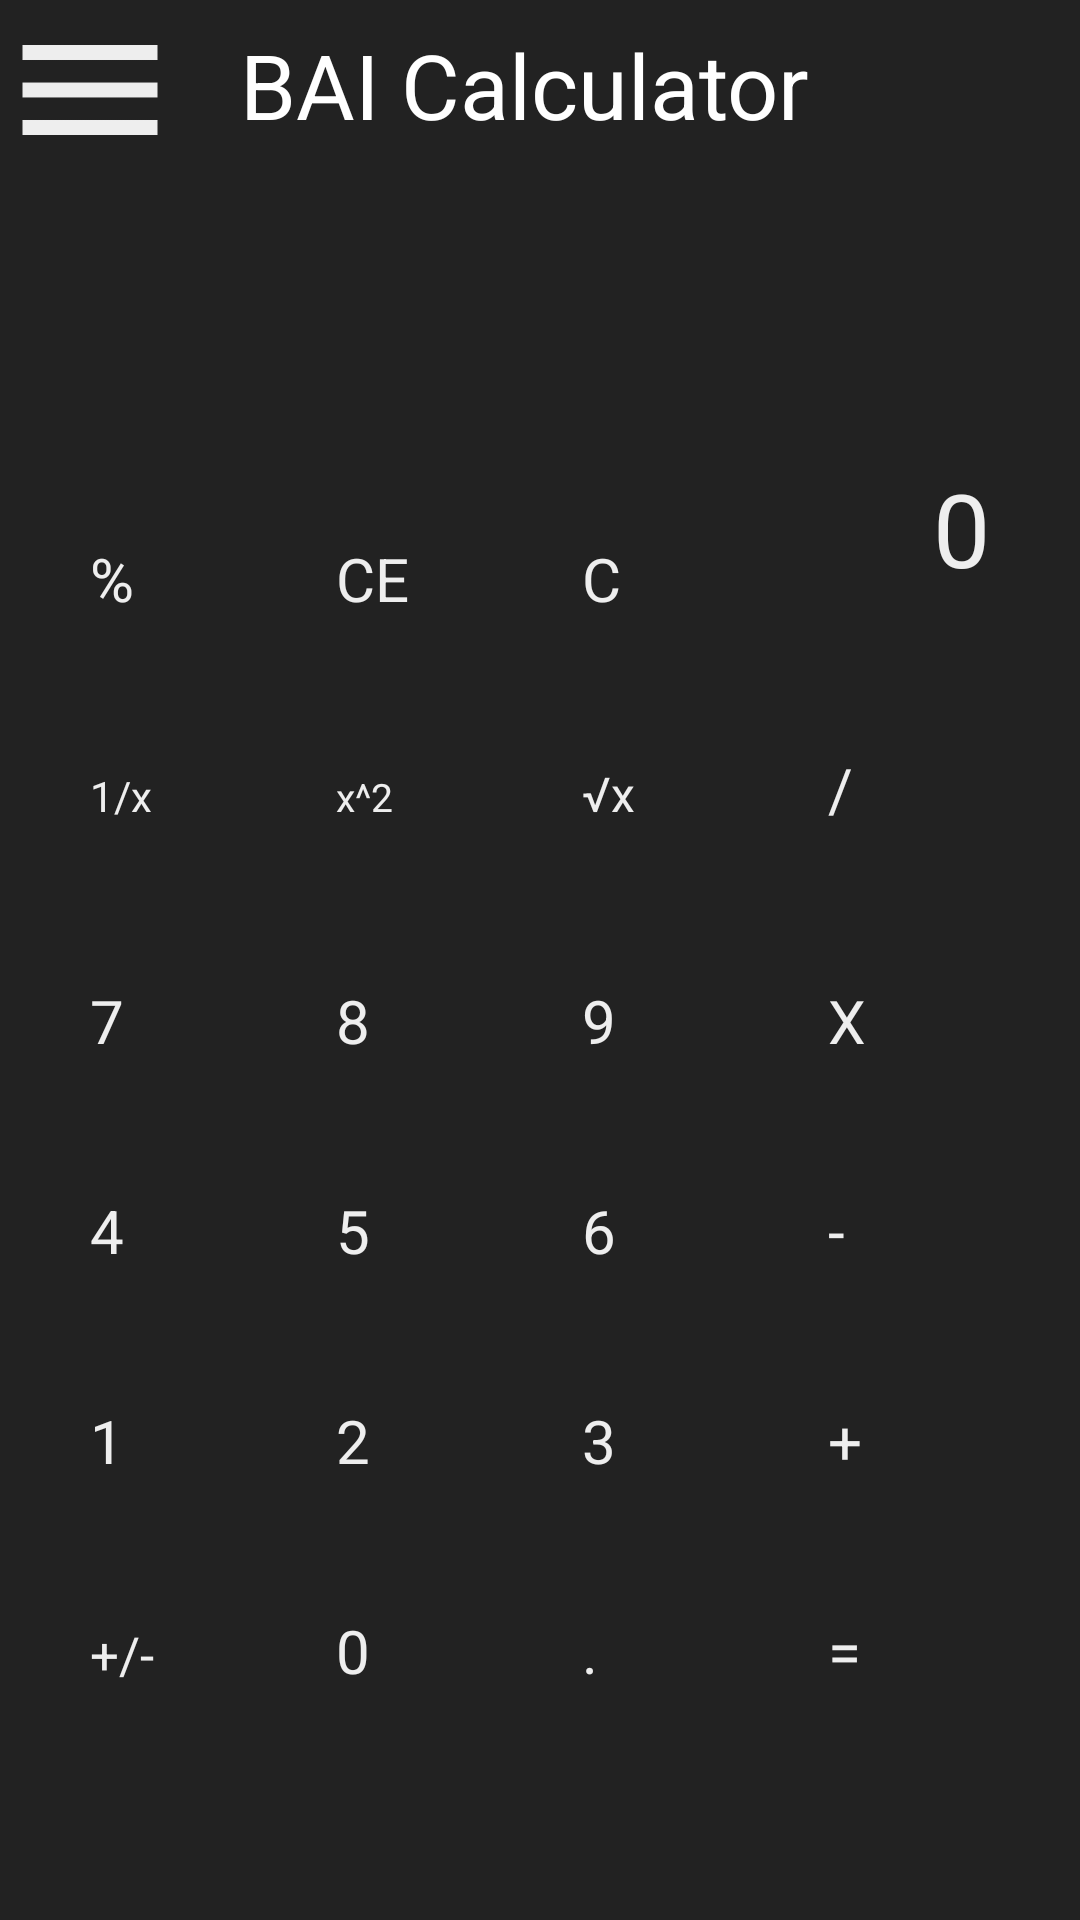

Icon bounding boxes for this 1080 × 1920 phone screenshot, format (x1, y1, x2, y2):
menu: (22, 45, 158, 135)
